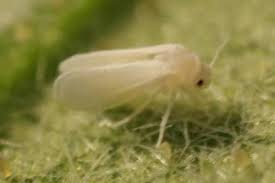Tobacco Whitefly: (51, 35, 213, 124)
